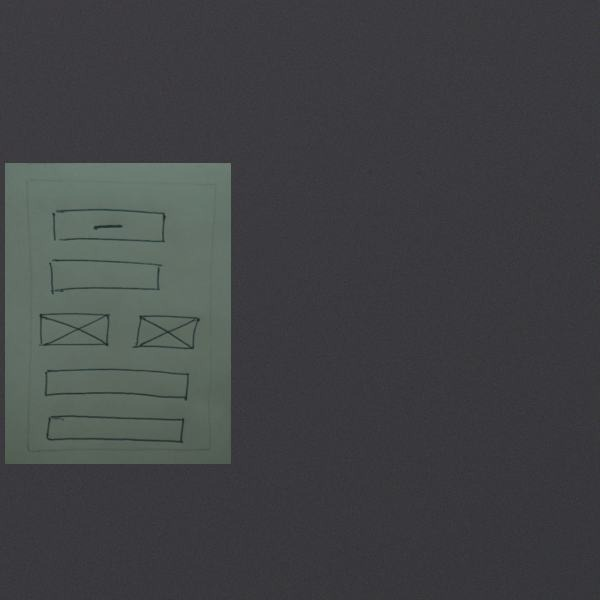button: (46, 204, 172, 248)
image: (38, 308, 112, 352), (130, 309, 204, 353)
text_input: (41, 366, 192, 403), (42, 413, 194, 446), (46, 256, 164, 298)
